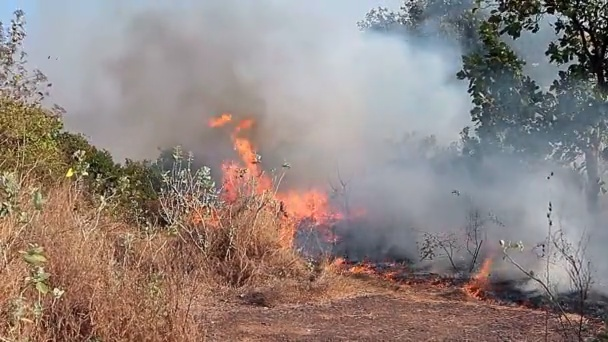fire: (231, 121, 257, 169), (476, 259, 491, 280), (211, 113, 230, 125), (65, 170, 72, 177)
